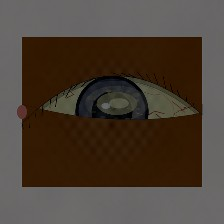corneal_ulcer: (84, 77, 150, 130)
